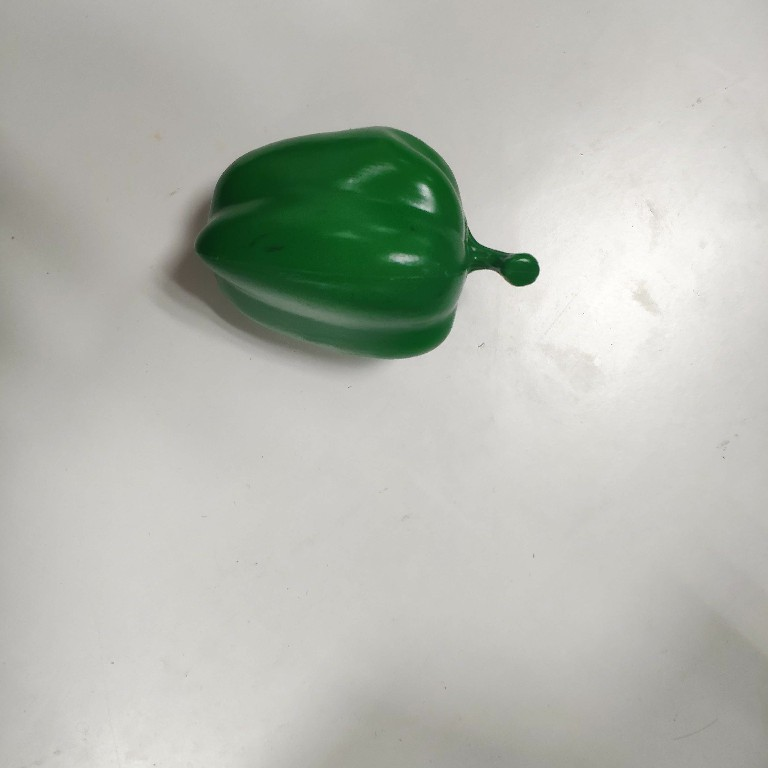fruit_pepper: (190, 121, 543, 364)
